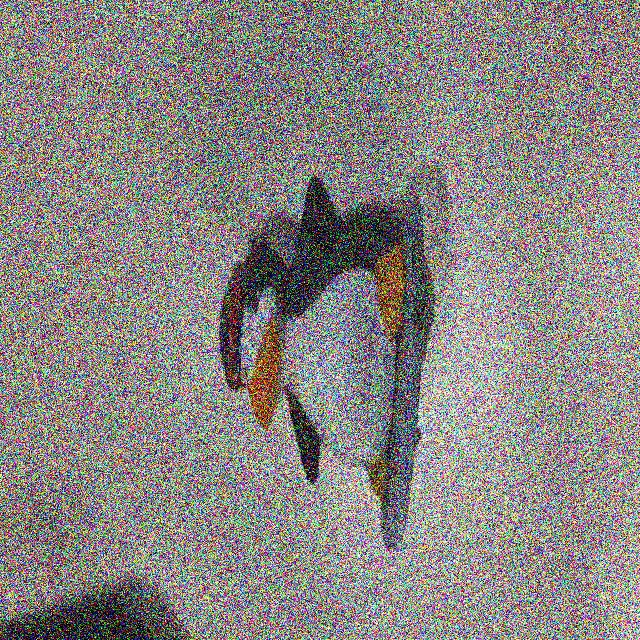Penguin: (210, 167, 443, 566)
